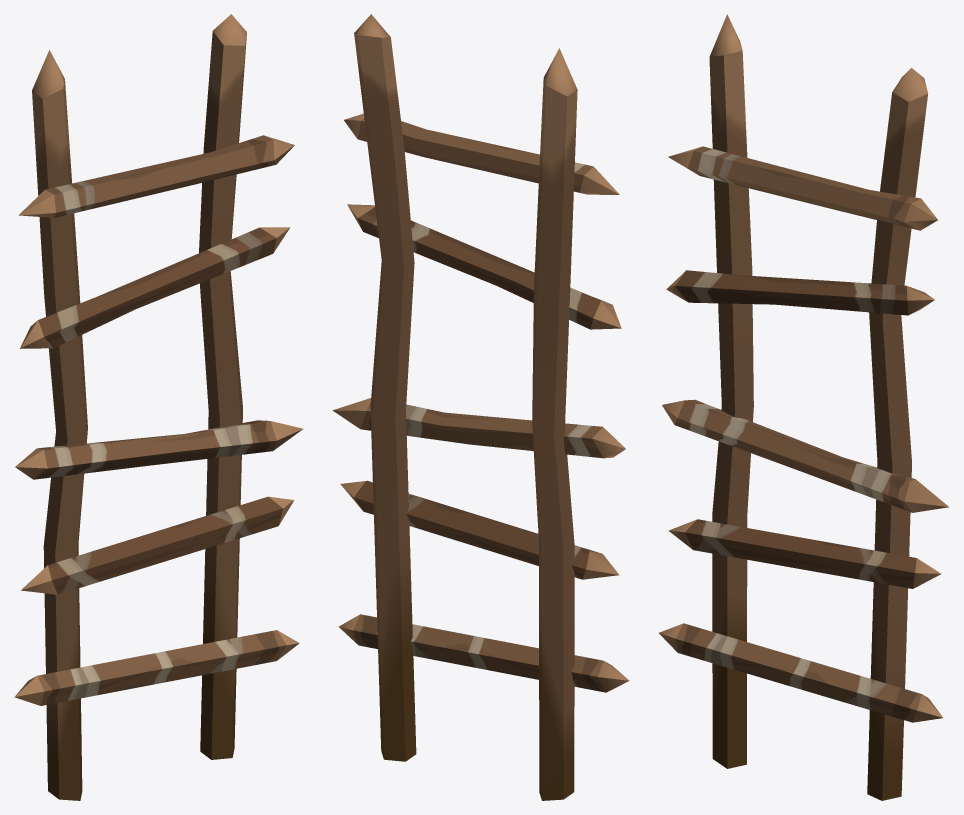
The model's file is bog_ladder.gltf.
3 views of the same model, side by side, from view 1: azimuth 30°, elevation 25°; view 2: azimuth 150°, elevation 25°; view 3: azimuth 330°, elevation 25° (orthographic). The views are drawn at different scales.
Visible parts, largest first — view 1: bog_ladder; view 2: bog_ladder; view 3: bog_ladder.
Part boxes in pixels (bbox=[...]): bog_ladder: bbox=[14, 14, 303, 800]; bog_ladder: bbox=[332, 14, 629, 800]; bog_ladder: bbox=[659, 14, 949, 800].
Bounding box in the file's own units: 1.39 × 3.4 × 0.2867.
Materials: 1 (1 with a texture image).
